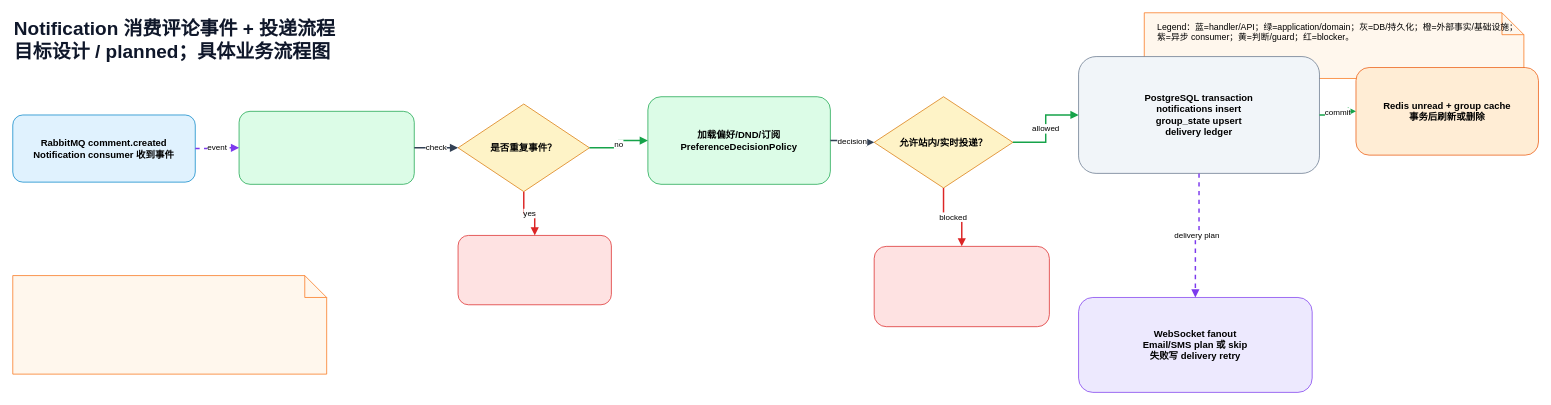
Image size: 1551x405. Some labels were removed from this diagram. The shapes that lost their labels are listed below. From the top down, each one's centre as x and y in pixels, then its label:
point 326,147: Decode + idempotency 按 sourceEventId 查重
point 534,270: duplicate no-op ack，不写通知
point 961,286: skipped DND/偏好关闭 只记录跳过或不建通道 delivery
point 169,324: 关键约束 Notification 只保存展示快照和投递 ledger；触发源事实仍归 Comment/Content/User。
